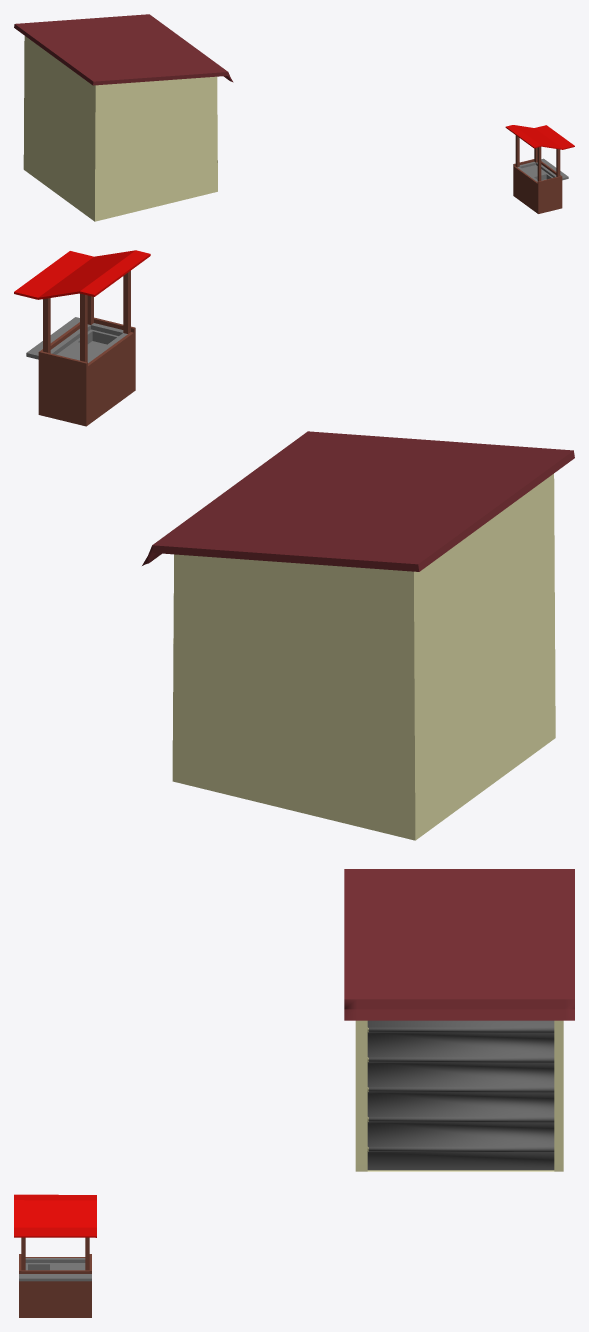
The model's file is Tindahan 1.fbx.
3 views of the same model, one above another, from view 1: azimuth 30°, elevation 25°; view 2: azimuth 150°, elevation 25°; view 3: azimuth 270°, elevation 25° (orthographic). The views are drawn at different scales.
Visible parts, largest first — view 1: TINDAHAN2, TINDAHAN1; view 2: TINDAHAN2, TINDAHAN1; view 3: TINDAHAN2, TINDAHAN1.
Part boxes in pixels (box(x1,y1,x2,y2)): TINDAHAN2: box(14, 14, 233, 221); TINDAHAN1: box(505, 125, 574, 213); TINDAHAN2: box(142, 431, 574, 840); TINDAHAN1: box(14, 250, 150, 426); TINDAHAN2: box(344, 869, 574, 1171); TINDAHAN1: box(14, 1194, 96, 1317).
Size of the model in its own units: 12301 by 4595 by 11082.
